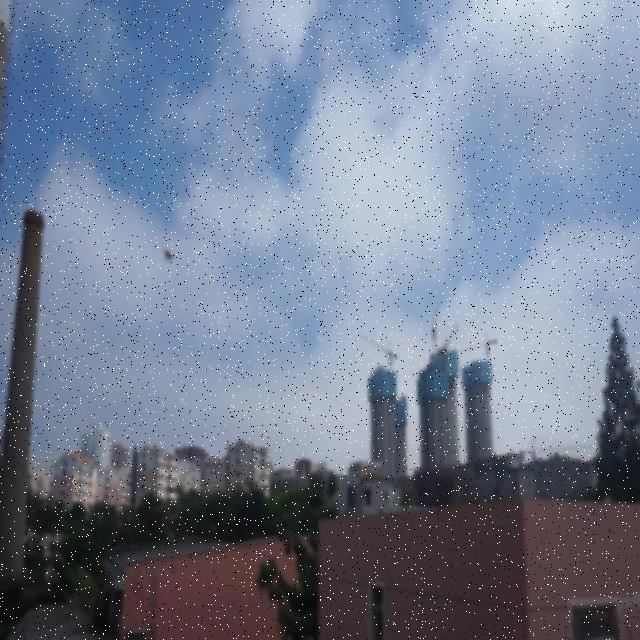UAV: (162, 244, 178, 265)
